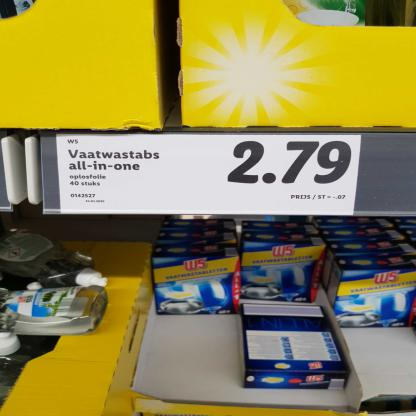prtg: (57, 134, 363, 217)
